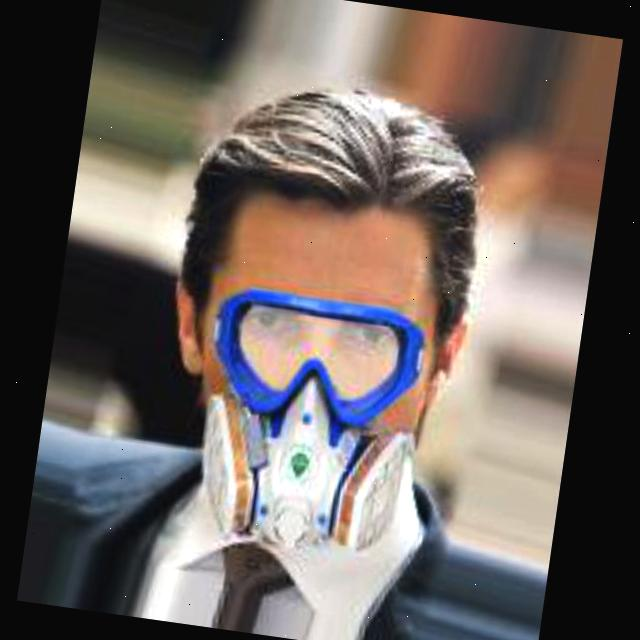suspicion: (148, 76, 522, 564)
